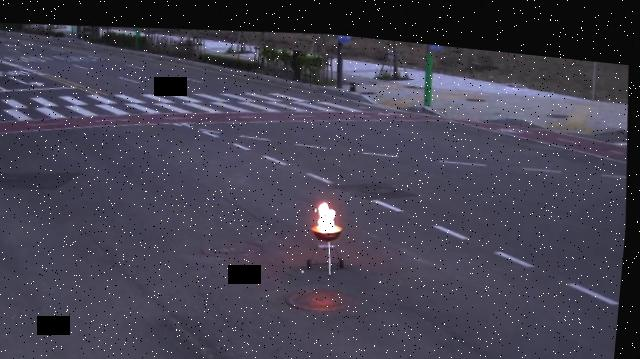fire: (315, 191, 346, 228)
